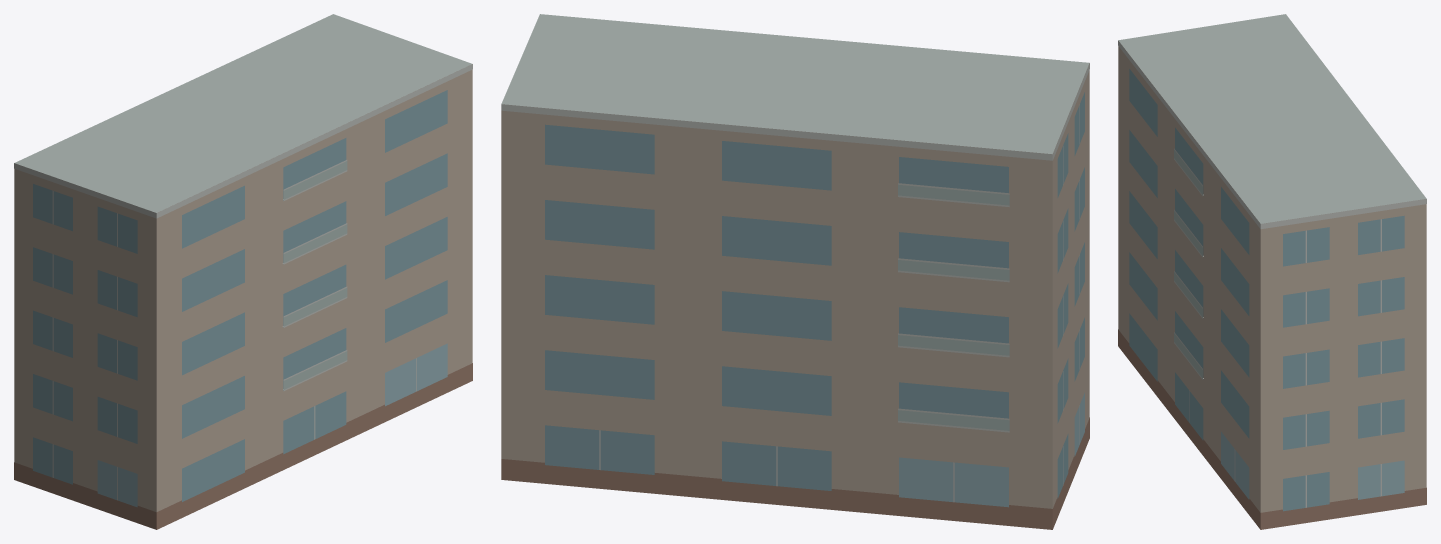
File: survey-upis-32561033.glb
3 views of the same model, side by side, from view 1: azimuth 30°, elevation 25°; view 2: azimuth 150°, elevation 25°; view 3: azimuth 270°, elevation 25° (orthographic). The views are drawn at different scales.
Parts seen in each view (by area): view 1: survey-upis-32561033.tmp; view 2: survey-upis-32561033.tmp; view 3: survey-upis-32561033.tmp.
Boxes of the visible parts, left/top/right/bottom form: survey-upis-32561033.tmp: left=14, top=14, right=472, bottom=529; survey-upis-32561033.tmp: left=501, top=14, right=1089, bottom=529; survey-upis-32561033.tmp: left=1118, top=14, right=1426, bottom=529.
Bounding box in the file's own units: 20.61 × 14 × 12.81.
